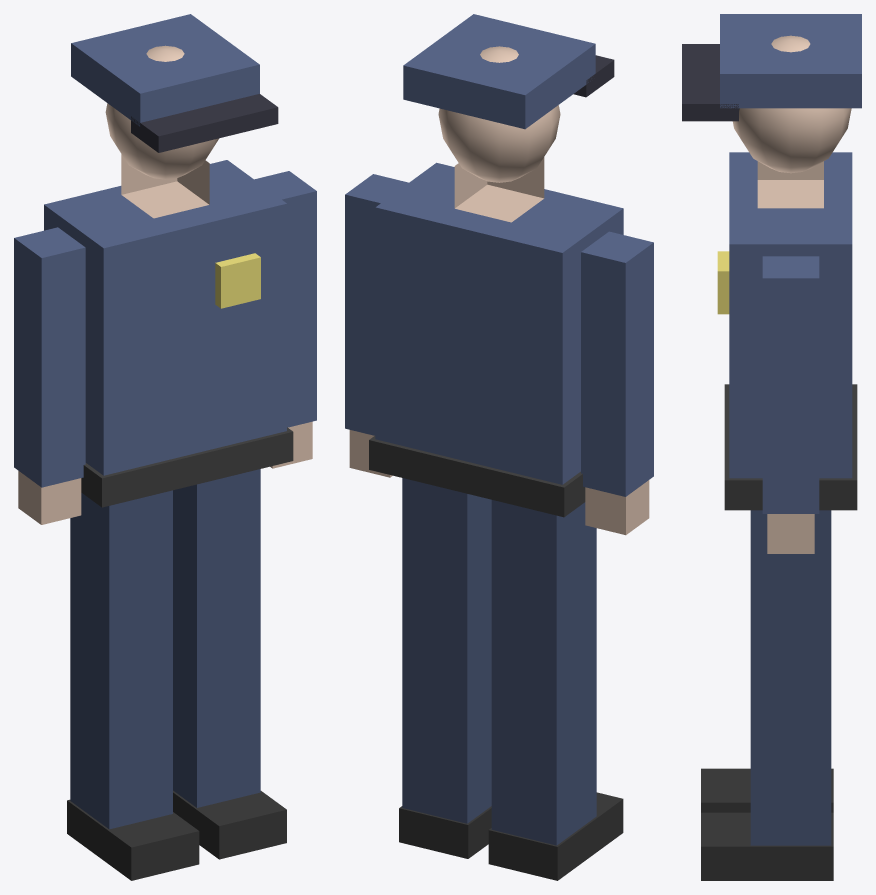
File: officer.glb
3 renders of one model, left to right at view 1: azimuth 30°, elevation 25°; view 2: azimuth 150°, elevation 25°; view 3: azimuth 270°, elevation 25°, orthographic. The views are drawn at different scales.
Visible parts, largest first — view 1: hips, legR, legL, armR, armL; view 2: hips, legR, legL, armR, armL; view 3: hips, legL, armL, legR.
Boxes of the visible parts, x1,y1,x2,y2 form: hips: (44, 14, 293, 507); legR: (67, 490, 199, 880); legL: (173, 469, 286, 859); armR: (14, 227, 85, 524); armL: (254, 171, 316, 468); hips: (369, 14, 623, 517); legR: (488, 500, 623, 880); legL: (399, 478, 491, 858); armR: (581, 231, 653, 535); armL: (345, 174, 408, 477); hips: (682, 14, 861, 510); legL: (701, 510, 833, 880); armL: (762, 256, 819, 553); legR: (701, 768, 833, 812).
Bounding box in the file's own units: 0.69 × 1.87 × 0.38.
